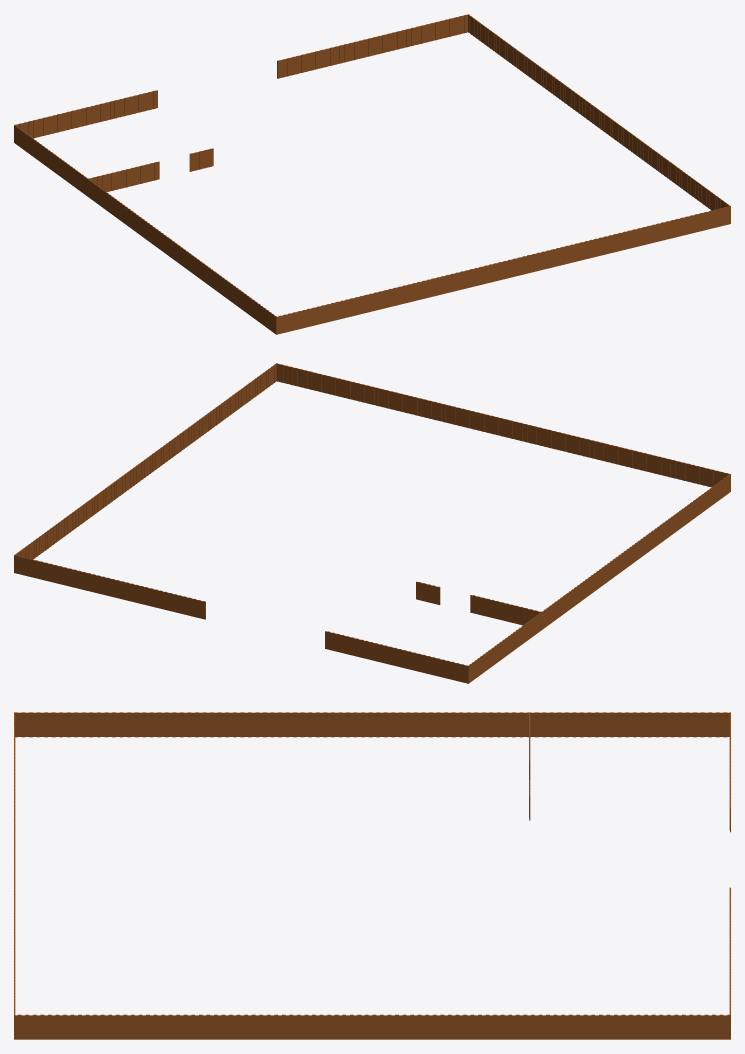
The model's file is smZaun.FBX.
3 renders of one model, top to bottom at view 1: azimuth 30°, elevation 25°; view 2: azimuth 150°, elevation 25°; view 3: azimuth 270°, elevation 25°, orthographic. The views are drawn at different scales.
Parts seen in each view (by area): view 1: no part large enough to name; view 2: no part large enough to name; view 3: zaunins_015, zaunins_030, zaunins_066, zaunins_019, zaunins_023, zaunins_051, zaunins_016, zaunins_027, zaunins_055, zaunins_059, zaunins_031, zaunins_052 (+26 smaller).
Boxes of the visible parts, x1,y1,x2,y2 form: zaunins_015: (655,1014,693,1039); zaunins_030: (89,1014,127,1039); zaunins_066: (617,712,655,737); zaunins_019: (504,1014,542,1039); zaunins_023: (353,1014,391,1039); zaunins_051: (51,712,89,737); zaunins_016: (617,1014,655,1039); zaunins_027: (202,1014,240,1039); zaunins_055: (202,712,240,737); zaunins_059: (353,712,391,737); zaunins_031: (51,1014,89,1039); zaunins_052: (89,712,127,737).
Bounding box in the file's own units: 380 × 14.2 × 380.
